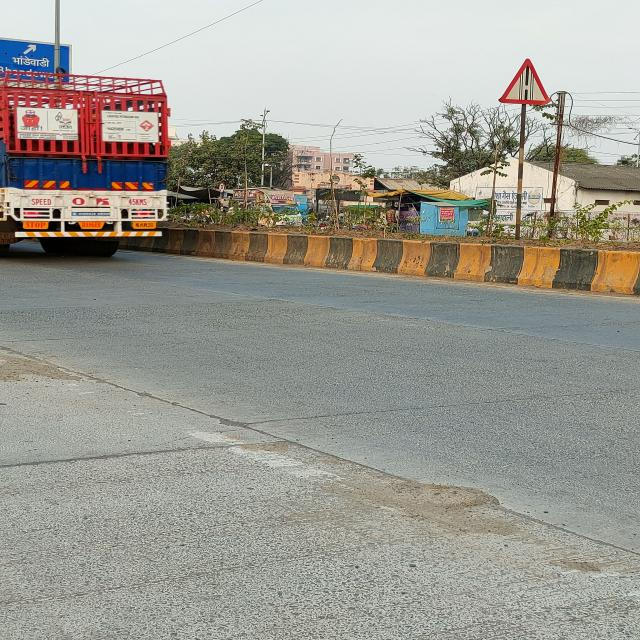GAP_IN_MEDIAN: (500, 56, 551, 100)
